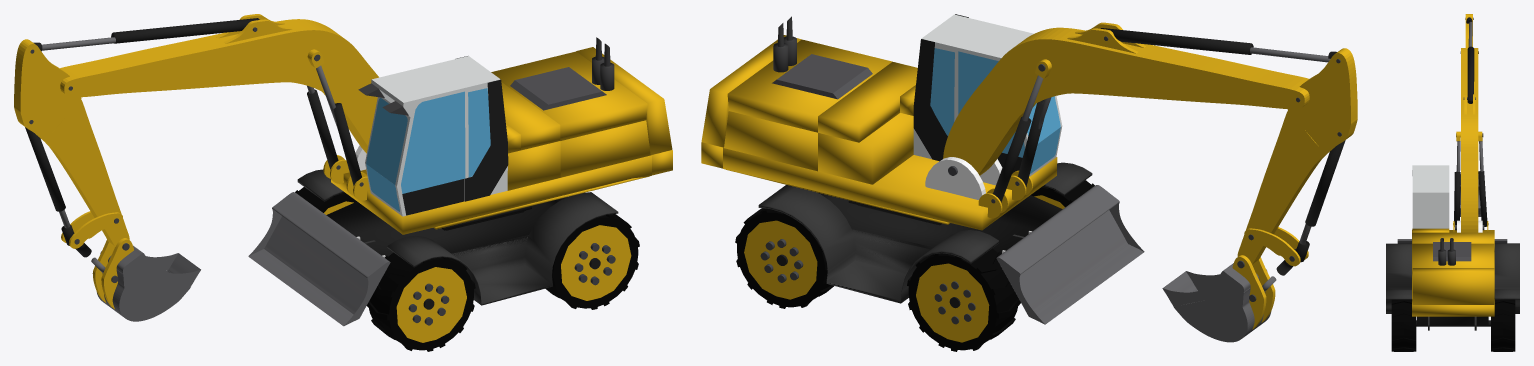
Rendered from excavator.glb.
3 renders of one model, left to right at view 1: azimuth 30°, elevation 25°; view 2: azimuth 150°, elevation 25°; view 3: azimuth 270°, elevation 25°, orthographic. The views are drawn at different scales.
Visible parts, largest first — view 1: Plane.003, Brazo_principal, Pala_2.001, Circle.008, Brazo_abazo, Cabina, Plane.002, Plane.010, Pala, Yanta_2, Circle.002, Circle.007 (+17 smaller); view 2: Plane.003, Brazo_principal, Pala_2.001, Circle.009, Brazo_abazo, Plane.010, Pala, Yanta_3, Circle.003, Circle.005, Cabina, Yanta_3.001 (+19 smaller); view 3: Plane.003, Brazo_principal, Cabina, Circle.008, Circle.009, Yanta_2.001, Yanta_3.001, Plane.010, Radiador, Cylinder.006, Cylinder.015, Cylinder.016 (+9 smaller).
Part boxes in pixels (left/top/right/bottom): Plane.003: left=331, top=47, right=672, bottom=234; Brazo_principal: left=60, top=19, right=378, bottom=153; Pala_2.001: left=248, top=192, right=390, bottom=326; Circle.008: left=387, top=192, right=618, bottom=305; Brazo_abazo: left=14, top=39, right=129, bottom=246; Cabina: left=365, top=56, right=507, bottom=216; Plane.002: left=401, top=91, right=465, bottom=193; Plane.010: left=326, top=197, right=567, bottom=256; Pala: left=97, top=245, right=200, bottom=321; Yanta_2: left=366, top=252, right=475, bottom=351; Circle.002: left=396, top=267, right=466, bottom=342; Circle.007: left=561, top=225, right=631, bottom=300; Plane.003: left=701, top=35, right=1057, bottom=230; Brazo_principal: left=943, top=27, right=1309, bottom=175; Pala_2.001: left=996, top=185, right=1144, bottom=324; Circle.009: left=758, top=185, right=998, bottom=303; Brazo_abazo: left=1237, top=48, right=1357, bottom=264; Plane.010: left=817, top=192, right=1062, bottom=253; Pala: left=1162, top=263, right=1271, bottom=342; Yanta_3: left=907, top=248, right=1020, bottom=351; Circle.003: left=916, top=263, right=989, bottom=342; Circle.005: left=744, top=220, right=817, bottom=299; Cabina: left=913, top=14, right=1062, bottom=176; Yanta_3.001: left=735, top=208, right=833, bottom=308; Plane.003: left=1412, top=228, right=1494, bottom=316; Brazo_principal: left=1461, top=48, right=1478, bottom=232; Cabina: left=1412, top=165, right=1449, bottom=228; Circle.008: left=1386, top=243, right=1411, bottom=313; Circle.009: left=1494, top=243, right=1519, bottom=313; Yanta_2.001: left=1391, top=299, right=1416, bottom=351; Yanta_3.001: left=1491, top=299, right=1515, bottom=351; Plane.010: left=1417, top=316, right=1488, bottom=324; Radiador: left=1433, top=242, right=1471, bottom=261; Cylinder.006: left=1467, top=46, right=1474, bottom=103; Cylinder.015: left=1478, top=171, right=1487, bottom=226; Cylinder.016: left=1454, top=171, right=1460, bottom=226.
Size of the model in its own units: 4.58 by 2.46 by 1.53.
